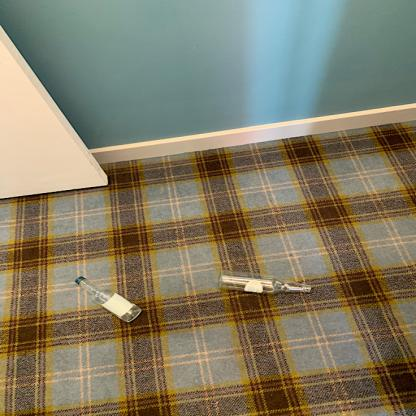trash: (75, 278, 142, 324), (216, 270, 313, 296)
